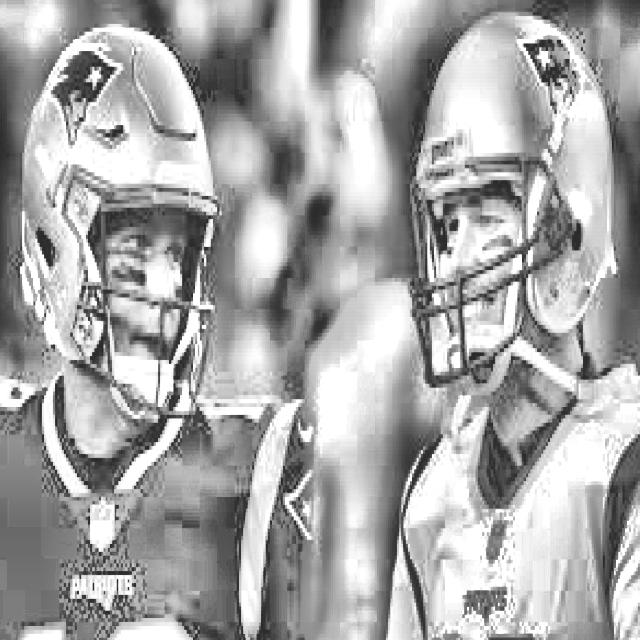Helmet: (405, 0, 619, 425), (18, 21, 222, 449)
